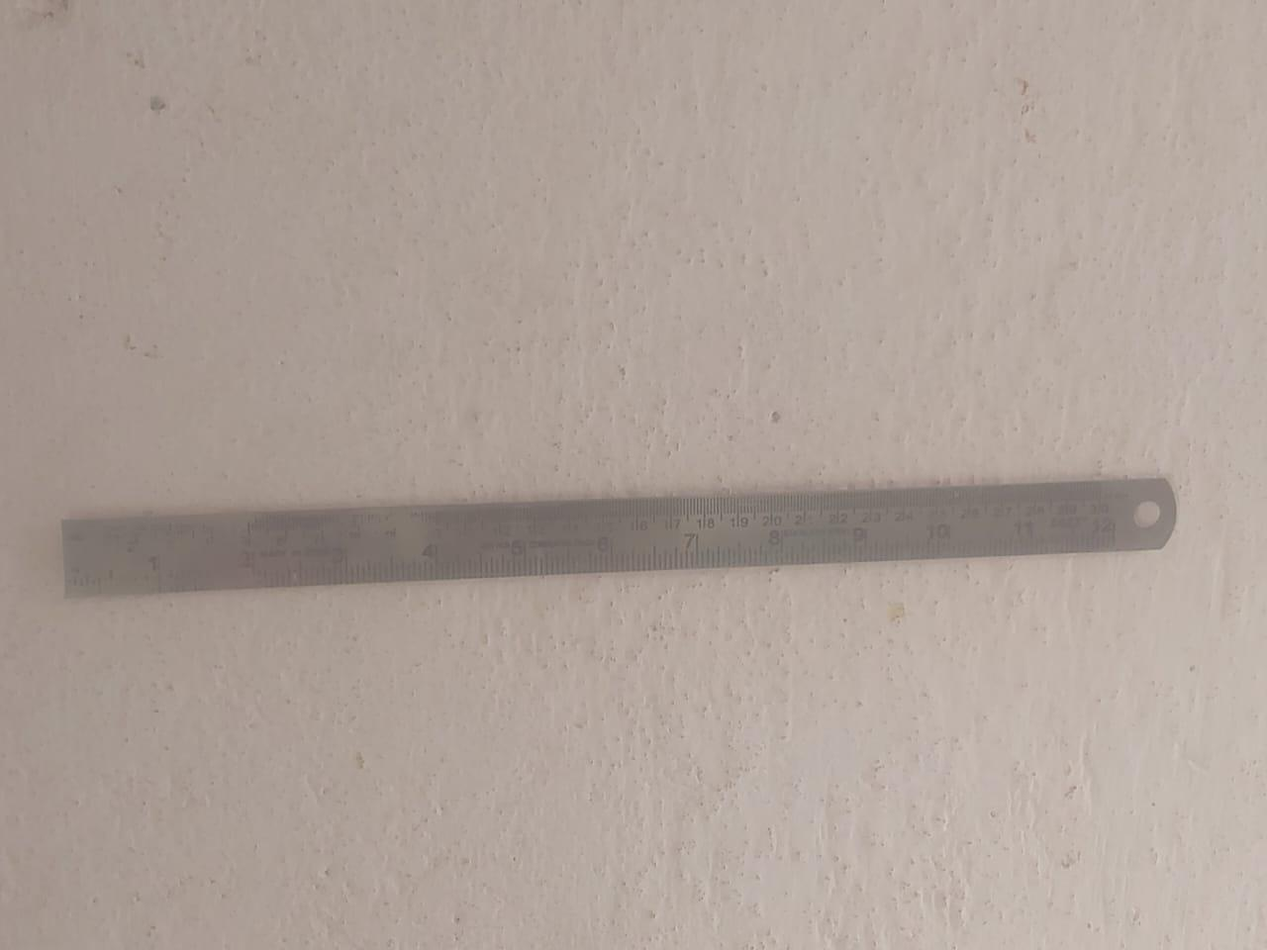scale: (59, 475, 1180, 590)
